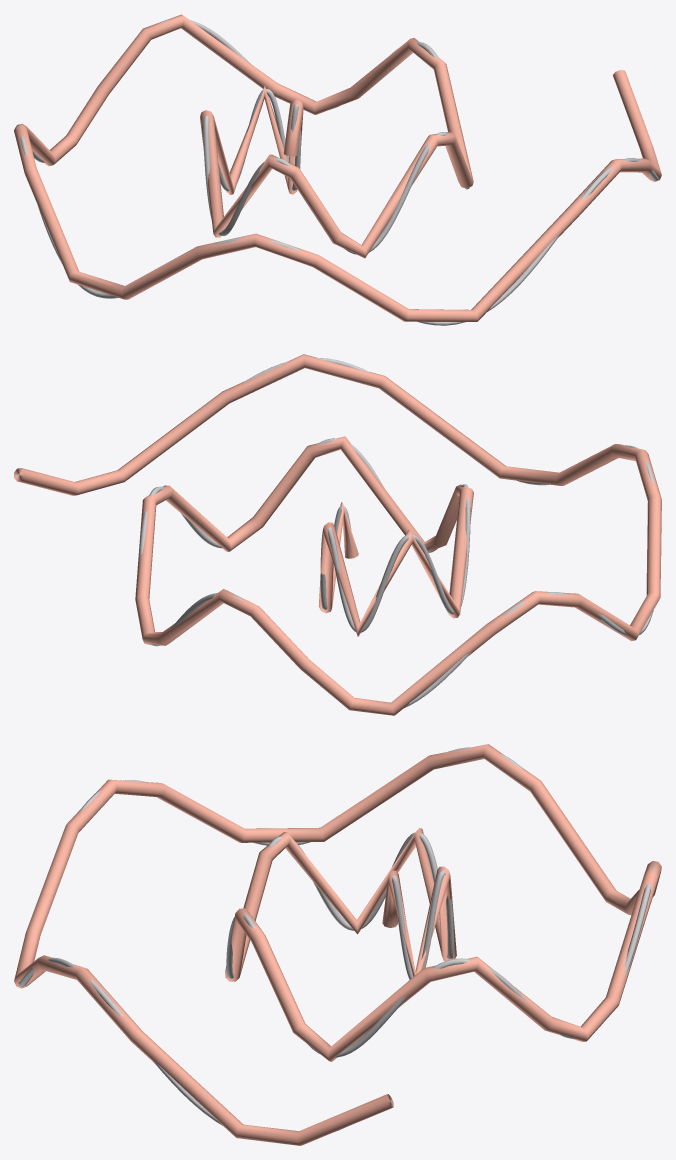
The model's file is example.gltf.
The picture shows the model from 3 angles, top to bottom: view 1: azimuth 30°, elevation 25°; view 2: azimuth 150°, elevation 25°; view 3: azimuth 270°, elevation 25°; orthographic projection. The views are drawn at different scales.
Visible parts, largest first — view 1: simplified, original; view 2: simplified, original; view 3: simplified, original.
Part boxes in pixels (left/top/right/bottom): simplified: left=14, top=14, right=661, bottom=321; original: left=17, top=20, right=658, bottom=325; simplified: left=14, top=354, right=661, bottom=715; original: left=17, top=358, right=654, bottom=707; simplified: left=14, top=744, right=661, bottom=1145; original: left=18, top=747, right=655, bottom=1132.
Size of the model in its own units: 3.37 by 0.5697 by 2.91.
